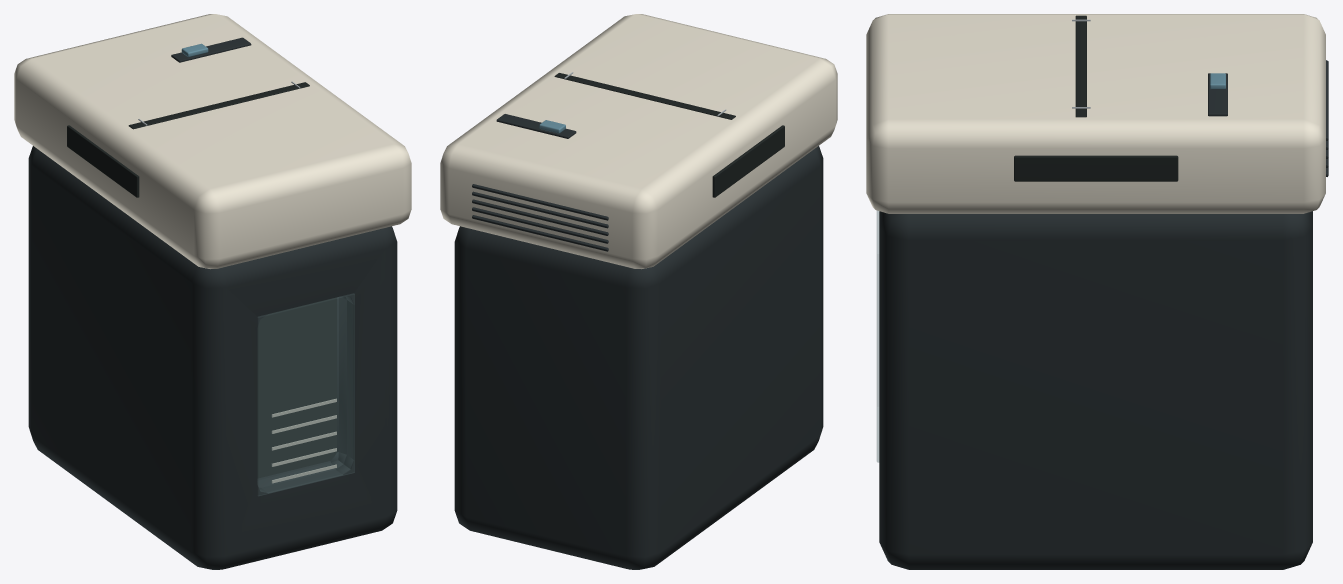
Rendered from paper-shredder.glb.
3 renders of one model, left to right at view 1: azimuth 30°, elevation 25°; view 2: azimuth 150°, elevation 25°; view 3: azimuth 270°, elevation 25°, orthographic. The views are drawn at different scales.
Parts seen in each view (by area): view 1: catalog_surface_UVMap, catalog_surface_RealismUV; view 2: catalog_surface_UVMap, catalog_surface_RealismUV; view 3: catalog_surface_UVMap, catalog_surface_RealismUV.
Part boxes in pixels (x1=…): catalog_surface_UVMap: x1=28, y1=37, x2=397, y2=569; catalog_surface_RealismUV: x1=14, y1=14, x2=411, y2=483; catalog_surface_UVMap: x1=454, y1=114, x2=823, y2=569; catalog_surface_RealismUV: x1=440, y1=14, x2=837, y2=268; catalog_surface_UVMap: x1=877, y1=60, x2=1328, y2=569; catalog_surface_RealismUV: x1=866, y1=14, x2=1325, y2=213.
Bounding box in the file's own units: 0.24 × 0.41 × 0.37.
